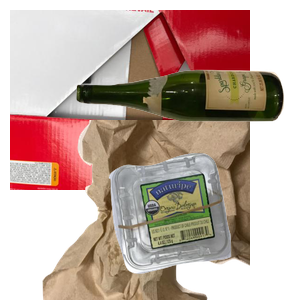cardboard: (10, 10, 250, 190)
glass: (74, 67, 300, 181)
plastic: (106, 151, 300, 300)
trash: (40, 120, 280, 300)
